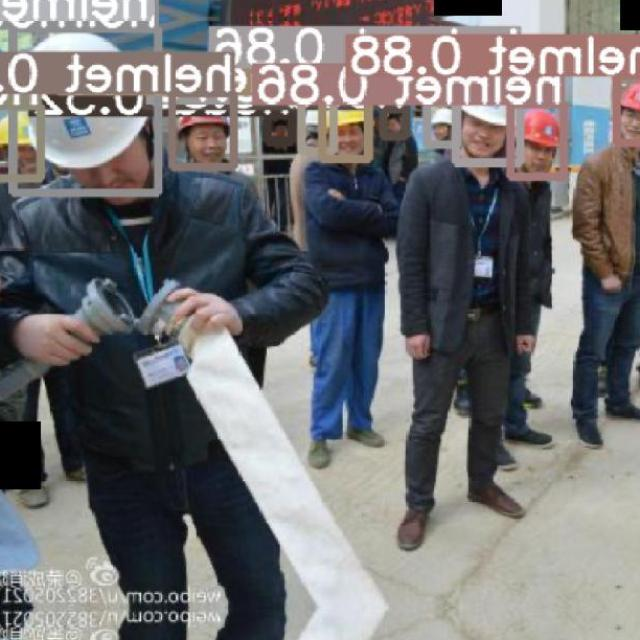helmet: (26, 32, 149, 168), (524, 109, 561, 147), (620, 79, 640, 113)
